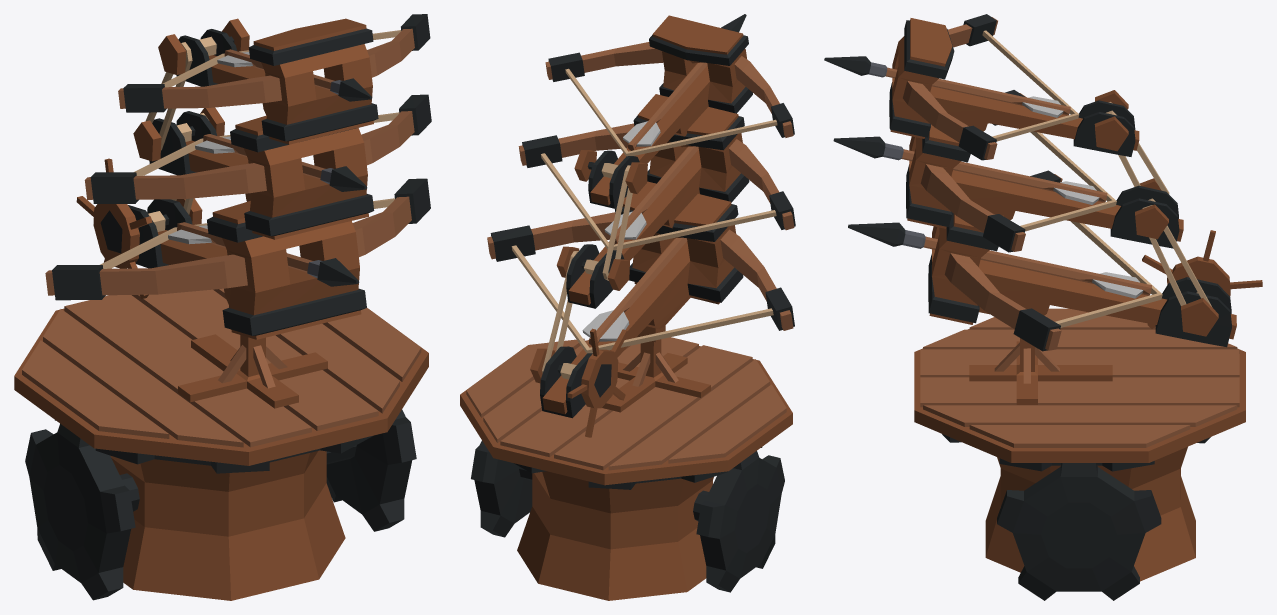
The model's file is Crossbow Level 3.FBX.
3 views of the same model, side by side, from view 1: azimuth 30°, elevation 25°; view 2: azimuth 150°, elevation 25°; view 3: azimuth 270°, elevation 25° (orthographic). The views are drawn at different scales.
Visible parts, largest first — view 1: Crossbow.003; view 2: Crossbow.003; view 3: Crossbow.003.
Part boxes in pixels (box(x1,y1,x2,y2)): Crossbow.003: box(14, 14, 431, 600); Crossbow.003: box(460, 14, 795, 600); Crossbow.003: box(824, 14, 1262, 600).
Size of the model in its own units: 221 by 325 by 257.
Materials: 1 (1 with a texture image).
